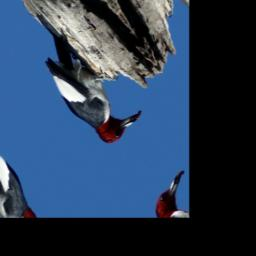Woodpecker: (16, 0, 143, 160)
